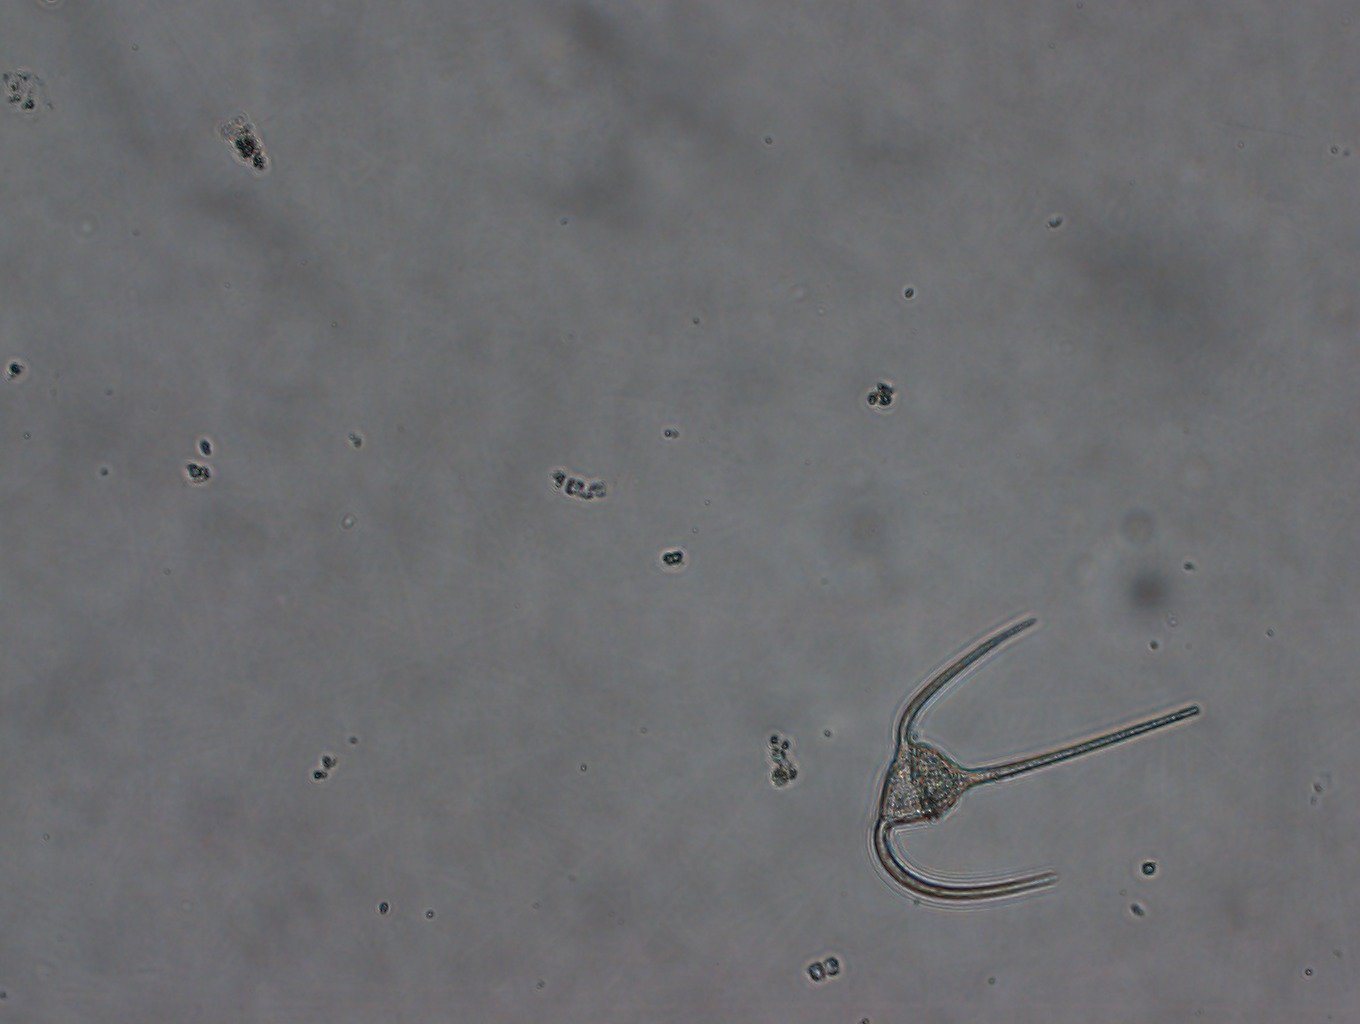ceratium trichoceros: (872, 614, 1200, 902)
